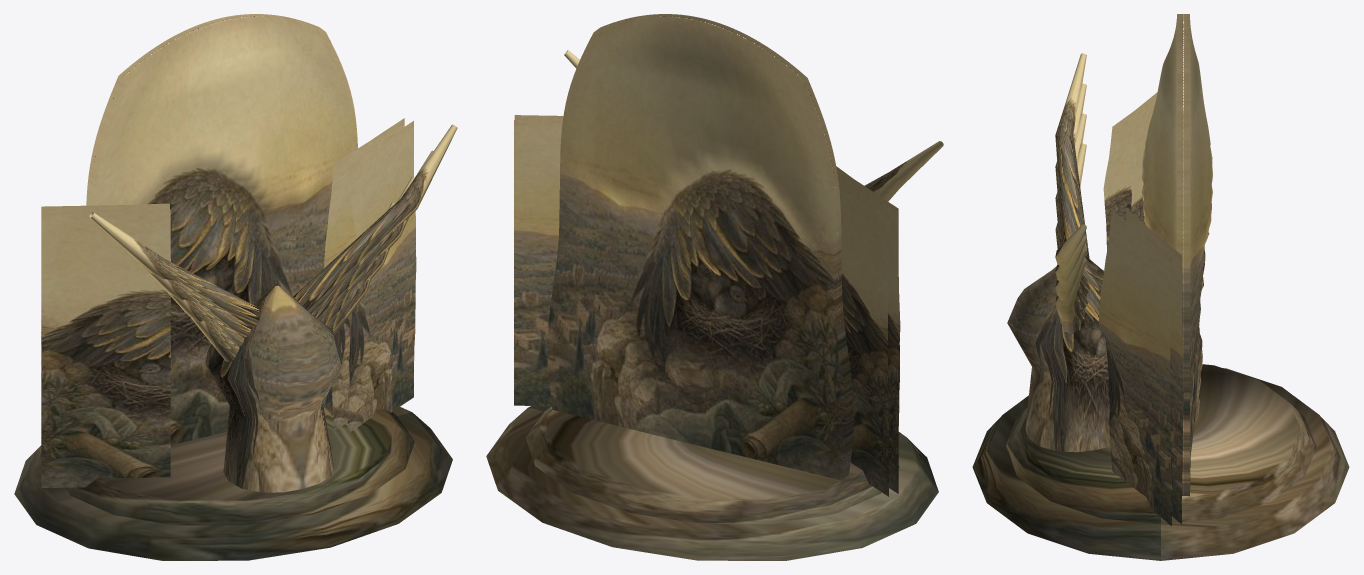
The model's file is psalms-3-19.glb.
3 views of the same model, side by side, from view 1: azimuth 30°, elevation 25°; view 2: azimuth 150°, elevation 25°; view 3: azimuth 270°, elevation 25° (orthographic). The views are drawn at different scales.
Parts seen in each view (by area): view 1: PaintingSculptureMonument; view 2: PaintingSculptureMonument; view 3: PaintingSculptureMonument.
Part boxes in pixels (left/top/right/bottom): PaintingSculptureMonument: left=14, top=14, right=457, bottom=560; PaintingSculptureMonument: left=486, top=14, right=943, bottom=560; PaintingSculptureMonument: left=972, top=14, right=1349, bottom=560.
Bounding box in the file's own units: 2.76 × 2.99 × 2.35.
1 material, 1 textured.
